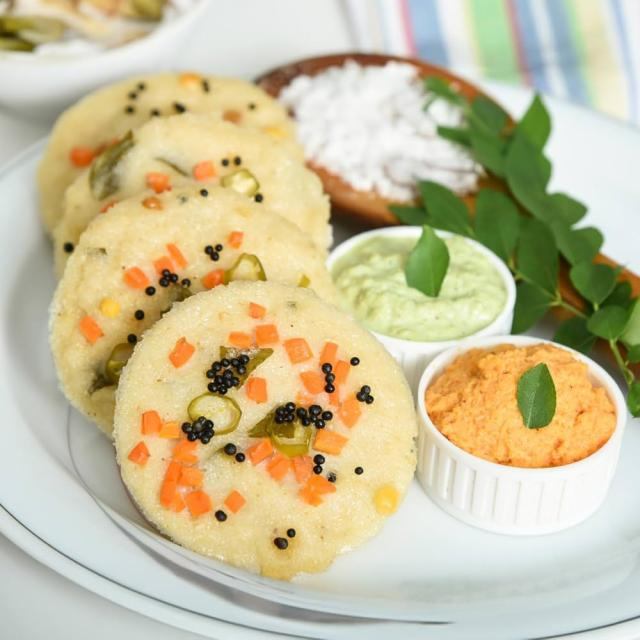rave idli: (105, 275, 431, 598), (49, 184, 321, 408), (43, 116, 334, 264)
